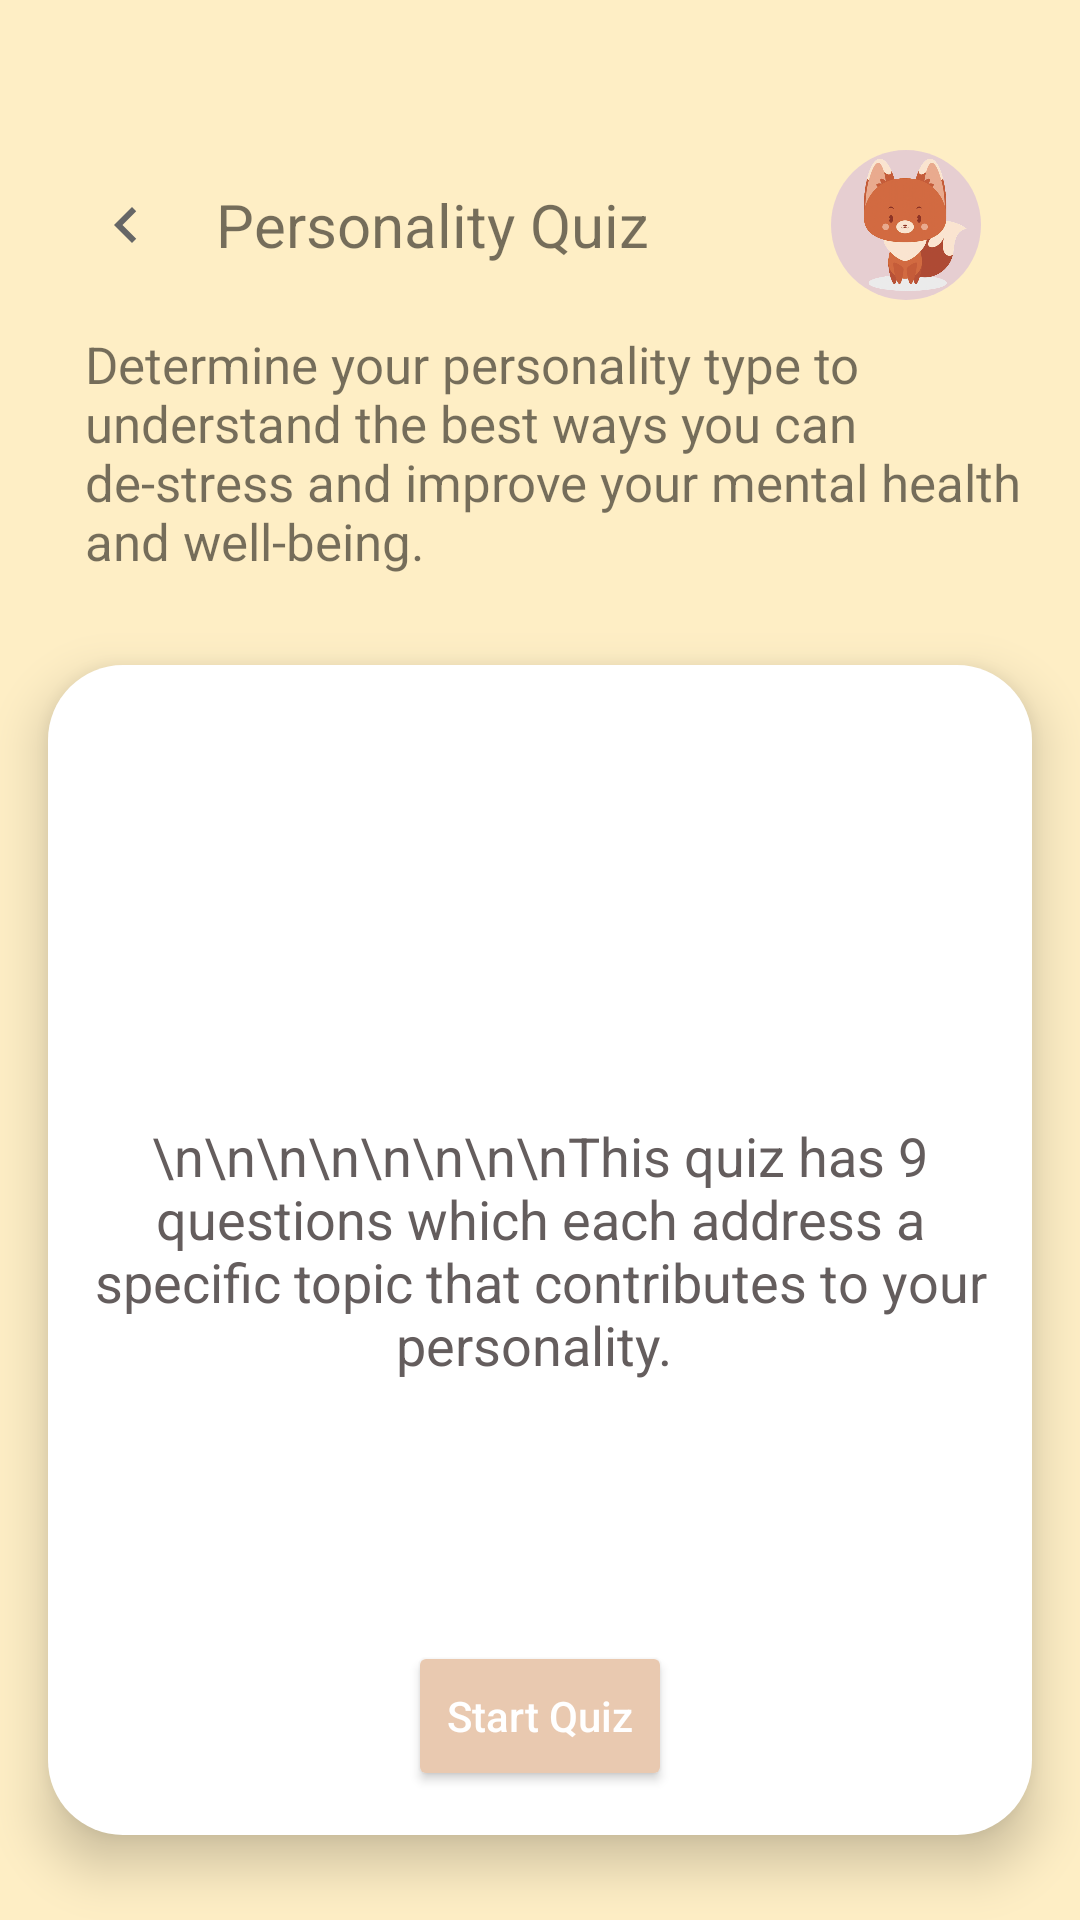

Where to tap for icons on this 1080px x 1920px app screen, as point (x, y):
fox: point (910, 225)
left: point (125, 225)
